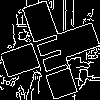E: (25, 25, 71, 79)
